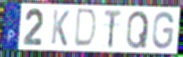2: (22, 7, 46, 48)
D: (72, 7, 99, 50)
G: (151, 10, 176, 51)
K: (49, 8, 71, 48)
Q: (125, 10, 150, 51)
T: (103, 9, 123, 50)
